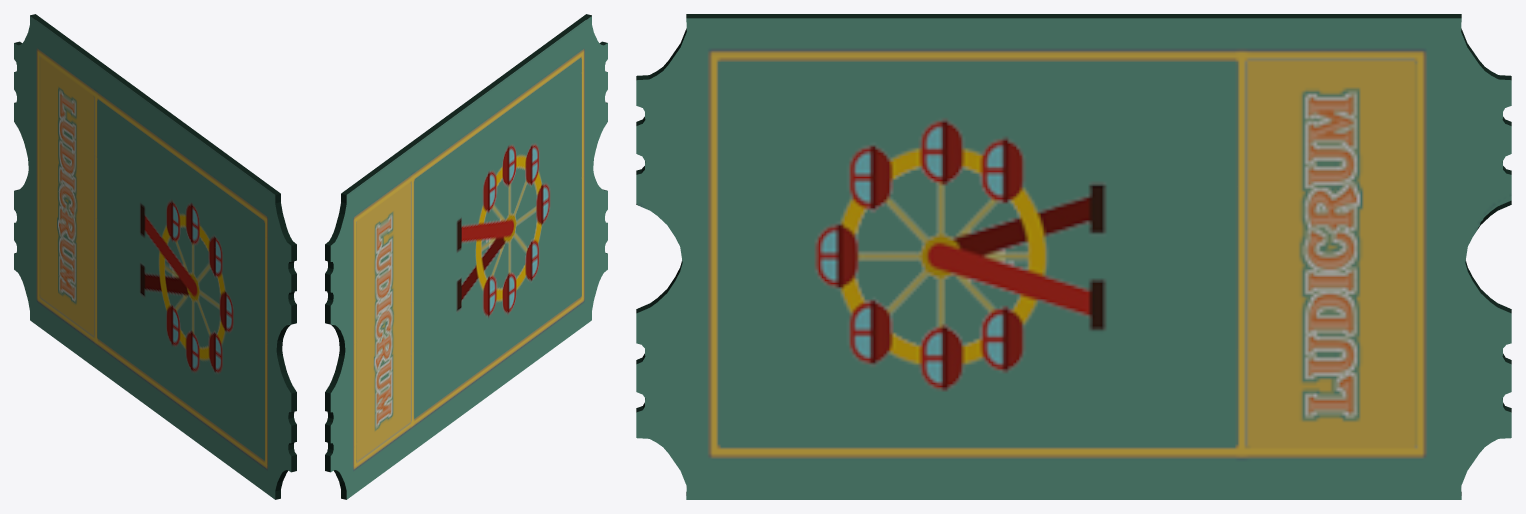
Rendered from Donme_Dolap_Ticket.obj.
3 views of the same model, side by side, from view 1: azimuth 30°, elevation 25°; view 2: azimuth 150°, elevation 25°; view 3: azimuth 270°, elevation 25° (orthographic). The views are drawn at different scales.
Parts seen in each view (by area): view 1: pCube3; view 2: pCube3; view 3: pCube3.
Part boxes in pixels (bbox=[...]): pCube3: bbox=[14, 14, 296, 499]; pCube3: bbox=[325, 14, 607, 499]; pCube3: bbox=[636, 14, 1511, 499].
Bounding box in the file's own units: 0.0733 × 3.78 × 6.23.
3 materials, 2 textured.
